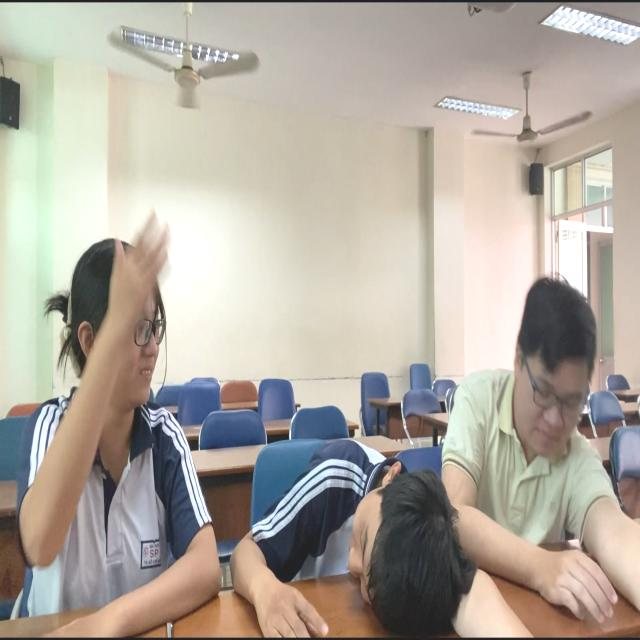raise_hand: (10, 225, 220, 613)
sleep: (236, 435, 477, 639)
